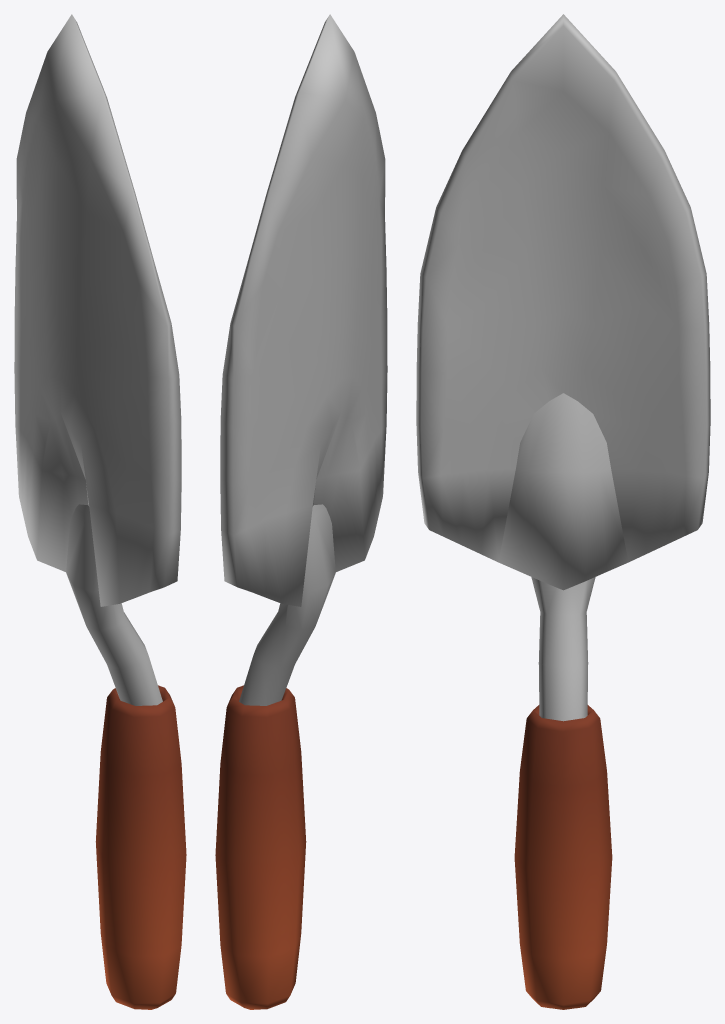
The model's file is toolsShovel_soil.fbx.
3 views of the same model, side by side, from view 1: azimuth 30°, elevation 25°; view 2: azimuth 150°, elevation 25°; view 3: azimuth 270°, elevation 25° (orthographic). The views are drawn at different scales.
Visible parts, largest first — view 1: Shovel soil; view 2: Shovel soil; view 3: Shovel soil.
Part boxes in pixels (x1,y1,x2,y2): Shovel soil: (14,14,186,1009); Shovel soil: (215,14,387,1009); Shovel soil: (416,14,710,1009).
Bounding box in the file's own units: 18.88 × 148 × 41.01.
